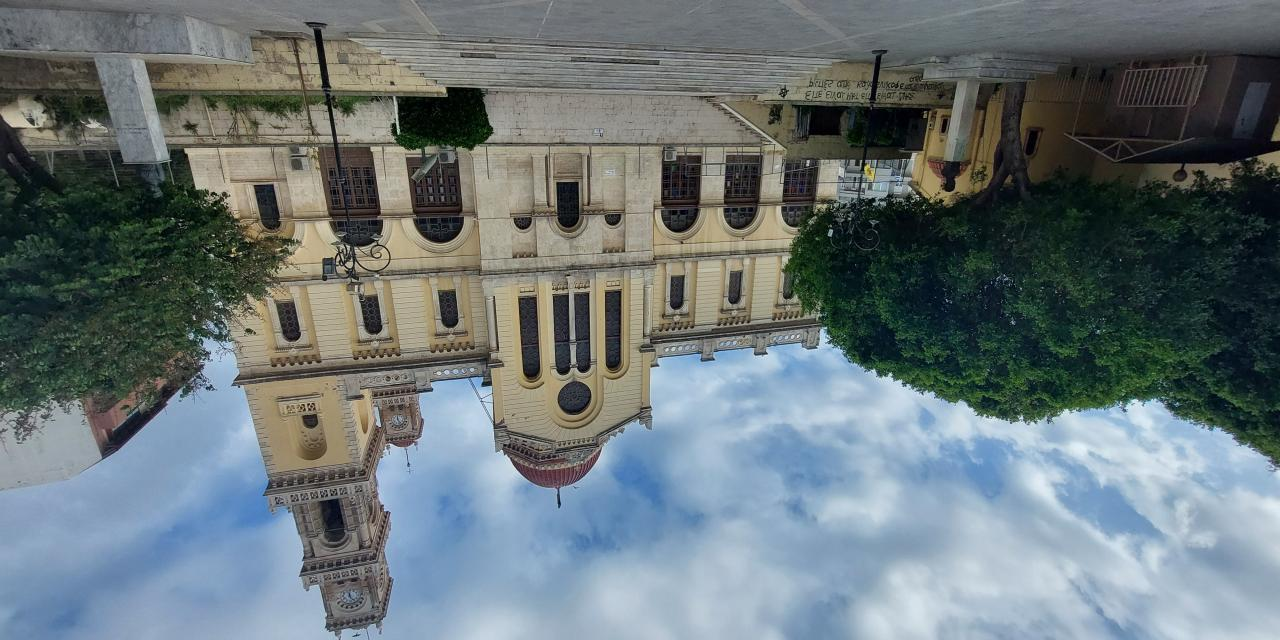Agios Minas: (171, 142, 834, 640)
